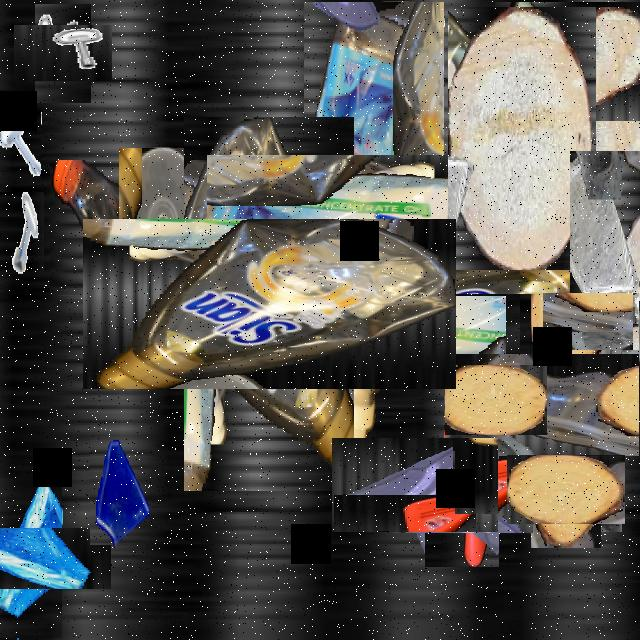glass: (350, 420, 480, 551), (570, 151, 640, 301), (0, 502, 86, 613), (562, 273, 640, 370), (90, 436, 152, 546)
metal: (382, 2, 444, 112), (24, 15, 102, 92), (0, 192, 44, 274), (0, 105, 41, 183)
plastic: (228, 78, 520, 370), (133, 168, 405, 440), (260, 201, 468, 411), (482, 316, 640, 494), (486, 10, 640, 174), (50, 160, 196, 295), (119, 148, 207, 304), (408, 442, 516, 550)
wood: (448, 7, 596, 270), (519, 442, 613, 536)
